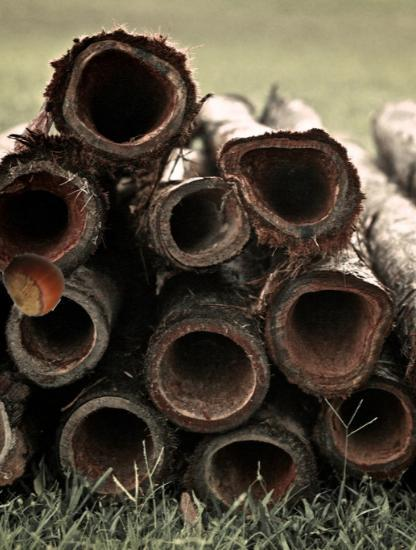Nut: (2, 253, 65, 316)
